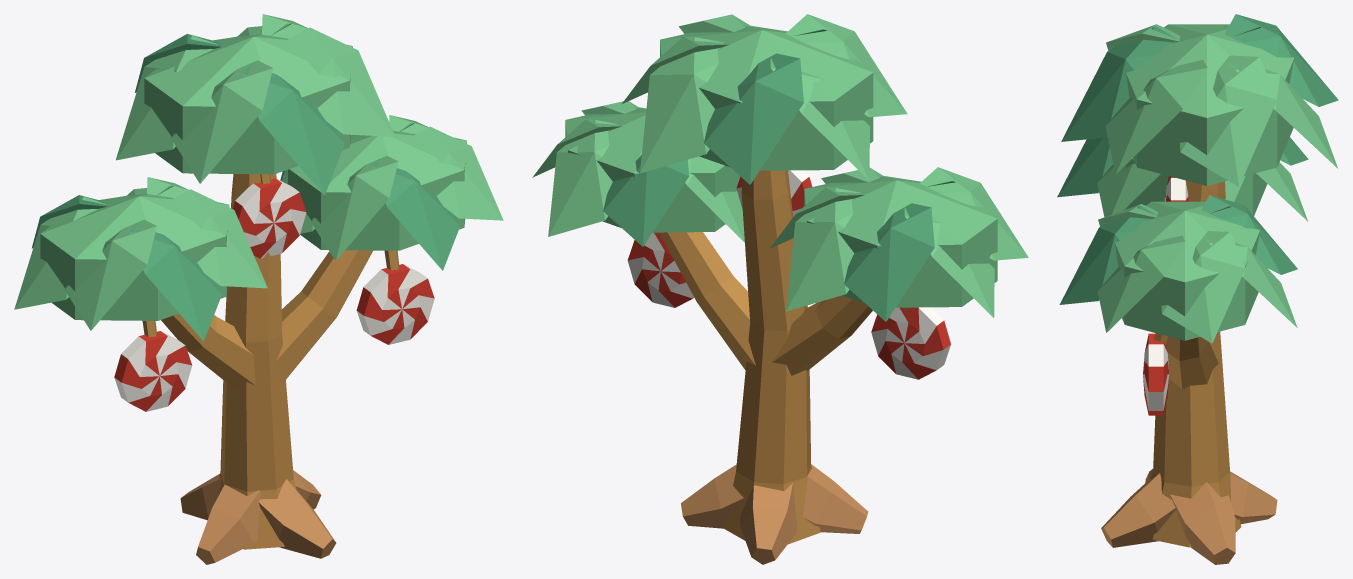
The model's file is 30-candy-tree.glb.
The picture shows the model from 3 angles, left to right: view 1: azimuth 30°, elevation 25°; view 2: azimuth 150°, elevation 25°; view 3: azimuth 270°, elevation 25°; orthographic projection. The views are drawn at different scales.
Visible parts, largest first — view 1: 30-candy-tree_Body; view 2: 30-candy-tree_Body; view 3: 30-candy-tree_Body.
Part boxes in pixels (<box>): 30-candy-tree_Body: <box>14,14,503,564</box>; 30-candy-tree_Body: <box>532,14,1028,564</box>; 30-candy-tree_Body: <box>1057,14,1338,564</box>.
Size of the model in its own units: 0.7084 by 0.7337 by 0.3749.
1 material, 1 textured.
